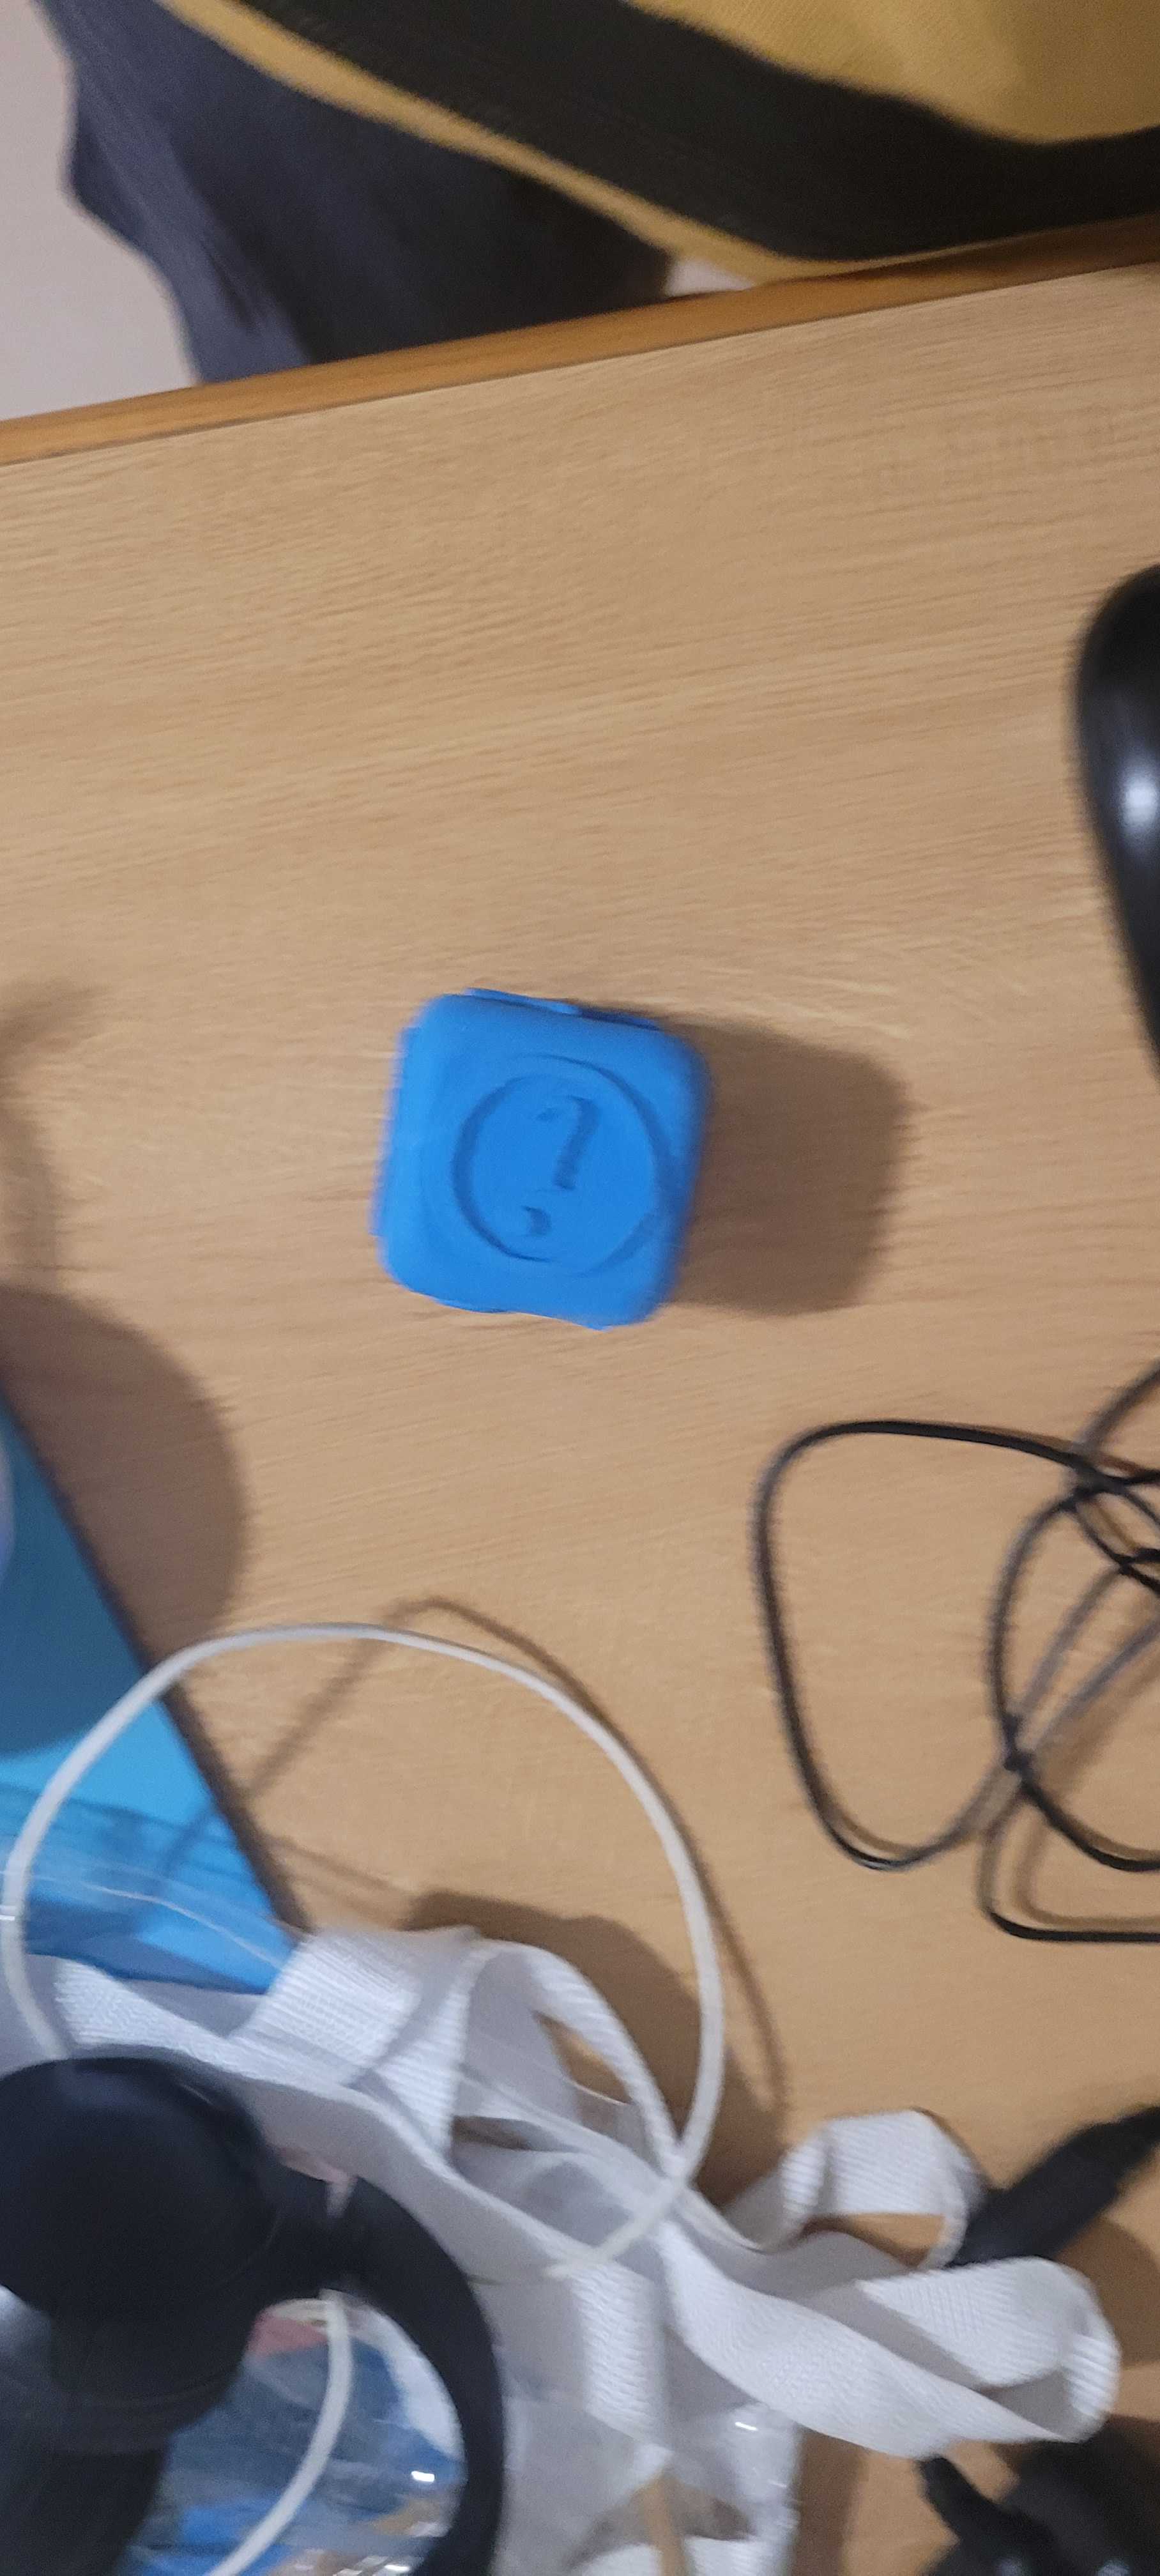Info: (430, 1033, 692, 1295)
